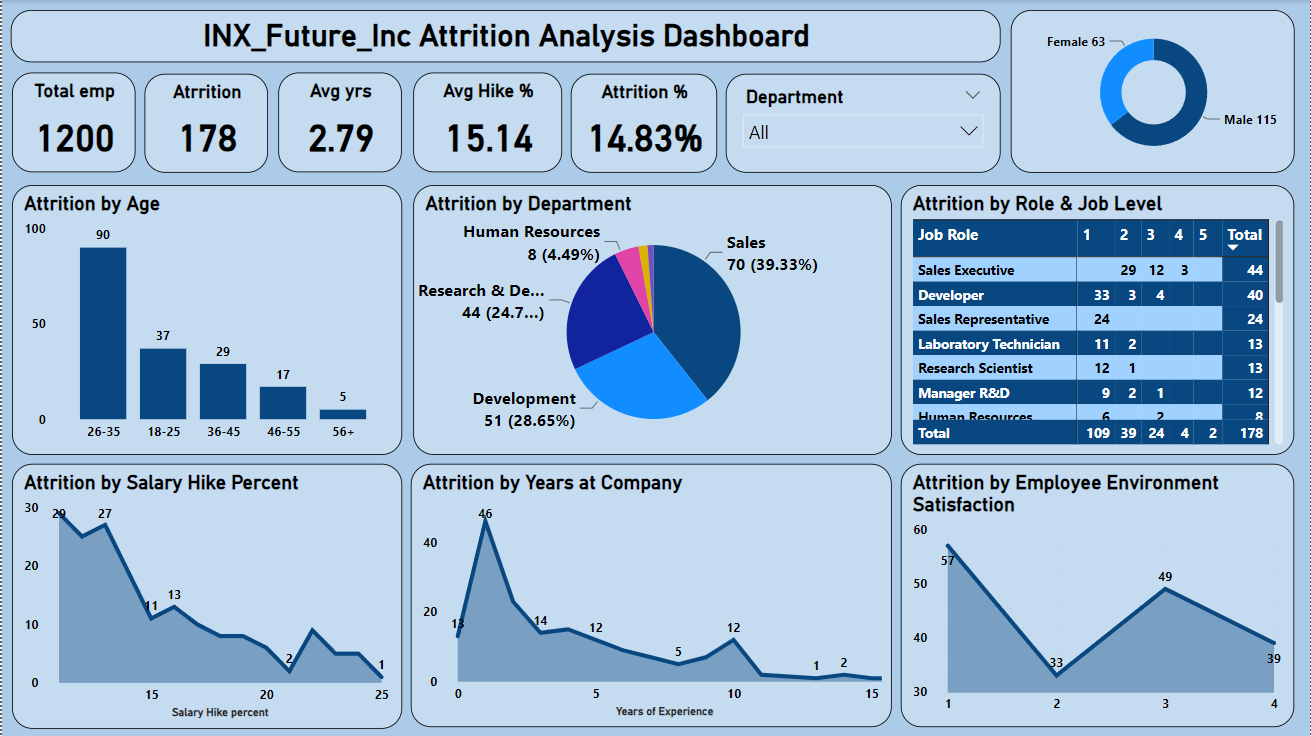

Layout of this report page (visuals, bound fields, positions):
{"tool":"powerbi","page":{"name":"Dashboard ","canvas":[1280,720],"ordinal":0},"visuals":[{"type":"card","title":"Avg Hike %","fields":{"Values":["Avg(INX_Future_Inc_Employee_Perform (2).Hike_att)"]},"box":[402.2,70.9,145.5,97.8],"z":0},{"type":"columnChart","title":"Attrition by Age","fields":{"Category":["INX_Future_Inc_Employee_Perform (2).Age group"],"Y":["Sum(INX_Future_Inc_Employee_Perform (2).Attrition Yes)"]},"box":[9.8,180.9,381.4,264],"z":1000},{"type":"areaChart","title":"Attrition by Salary Hike Percent","fields":{"Category":["INX_Future_Inc_Employee_Perform (2).EmpLastSalaryHikePercent"],"Y":["CountNonNull(INX_Future_Inc_Employee_Perform (2).Attrition Yes)"]},"box":[9.8,453.5,381.4,259.2],"z":2000},{"type":"pieChart","title":"Attrition by Department","fields":{"Category":["INX_Future_Inc_Employee_Perform (2).EmpDepartment"],"Y":["Sum(INX_Future_Inc_Employee_Perform (2).Attrition Yes)"]},"box":[402.2,180.9,468.2,264],"z":3000},{"type":"areaChart","title":"Attrition by Years at Company","fields":{"Y":["CountNonNull(INX_Future_Inc_Employee_Perform (2).Attrition Yes)"],"Category":["INX_Future_Inc_Employee_Perform (2).ExperienceYearsAtThisCompany"]},"box":[399.7,453.5,470.6,257.9],"z":4000},{"type":"slicer","fields":{"Values":["INX_Future_Inc_Employee_Perform (2).EmpDepartment"]},"box":[707.8,72.1,268.9,96.6],"z":5000},{"type":"pivotTable","title":"Attrition by Role & Job Level","fields":{"Values":["Sum(INX_Future_Inc_Employee_Perform (2).Attrition Yes)"],"Rows":["INX_Future_Inc_Employee_Perform (2).EmpJobRole"],"Columns":["INX_Future_Inc_Employee_Perform (2).EmpJobLevel"]},"box":[878.9,180.9,385.1,264],"z":6000},{"type":"card","title":"Avg yrs","fields":{"Values":["Avg(INX_Future_Inc_Employee_Perform (2).Yrs_att)"]},"box":[270.2,70.9,121,97.8],"z":7000},{"type":"card","title":"Total emp","fields":{"Values":["CountNonNull(INX_Future_Inc_Employee_Perform (2).EmpNumber)"]},"box":[9.8,70.9,121,97.8],"z":8000},{"type":"card","title":"Atrrition","fields":{"Values":["Sum(INX_Future_Inc_Employee_Perform (2).Attrition Yes)"]},"box":[139.4,72.1,121,96.6],"z":9000},{"type":"textbox","title":"INX_Future_Inc Attrition Analysis Dashboard","box":[8.6,9.8,968.1,51.3],"z":10000},{"type":"donutChart","title":"Attrition by Gender","fields":{"Category":["INX_Future_Inc_Employee_Perform (2).Gender"],"Y":["Sum(INX_Future_Inc_Employee_Perform (2).Attrition Yes)"]},"box":[986.5,9.8,277.5,158.9],"z":11000},{"type":"card","title":"Attrition %","fields":{"Values":["INX_Future_Inc_Employee_Perform (2).Attrition Yes % difference from Count of EmpNumber 2"]},"box":[556.2,72.1,143,96.6],"z":12000},{"type":"areaChart","title":"Attrition by Employee Environment Satisfaction","fields":{"Category":["INX_Future_Inc_Employee_Perform (2).EmpEnvironmentSatisfaction"],"Y":["Sum(INX_Future_Inc_Employee_Perform (2).Attrition Yes)"]},"box":[878.9,453.5,385.1,257.9],"z":13000}]}

Visuals, with their boxes in screenshot pixels (x1, y1, x2, y2), scaled from the page's 1280x720 canvas onto the 1311x736 screenshot:
"Avg Hike %" card: <box>412,72,561,172</box>
"Attrition by Age" columnChart: <box>10,185,401,455</box>
"Attrition by Salary Hike Percent" areaChart: <box>10,464,401,729</box>
"Attrition by Department" pieChart: <box>412,185,891,455</box>
"Attrition by Years at Company" areaChart: <box>409,464,891,727</box>
slicer - INX_Future_Inc_Employee_Perform (2).EmpDepartment: <box>725,74,1000,172</box>
"Attrition by Role & Job Level" pivotTable: <box>900,185,1295,455</box>
"Avg yrs" card: <box>277,72,401,172</box>
"Total emp" card: <box>10,72,134,172</box>
"Atrrition" card: <box>143,74,267,172</box>
"INX_Future_Inc Attrition Analysis Dashboard" textbox: <box>9,10,1000,62</box>
"Attrition by Gender" donutChart: <box>1010,10,1295,172</box>
"Attrition %" card: <box>570,74,716,172</box>
"Attrition by Employee Environment Satisfaction" areaChart: <box>900,464,1295,727</box>
